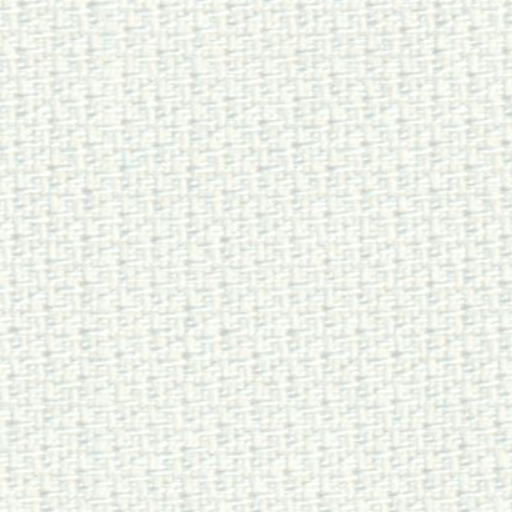TuoSha: (68, 12, 152, 502)
